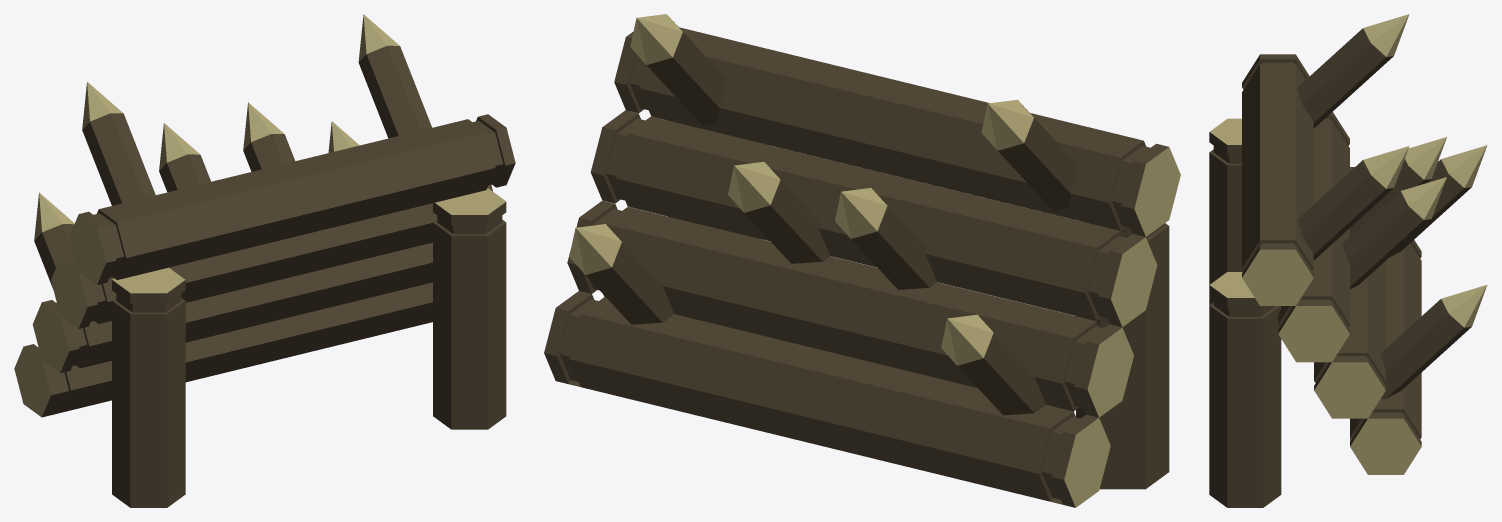
The model's file is Raft_hull.fbx.
3 renders of one model, left to right at view 1: azimuth 30°, elevation 25°; view 2: azimuth 150°, elevation 25°; view 3: azimuth 270°, elevation 25°, orthographic. The views are drawn at different scales.
Parts seen in each view (by area): view 1: Hull; view 2: Hull; view 3: Hull.
Part boxes in pixels (x1,y1,x2,y2): Hull: [14, 14, 515, 507]; Hull: [544, 14, 1180, 507]; Hull: [1209, 14, 1487, 507].
Bounding box in the file's own units: 380 × 307 × 228.
